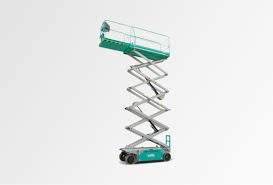Scissor Lift: (97, 18, 173, 165)
